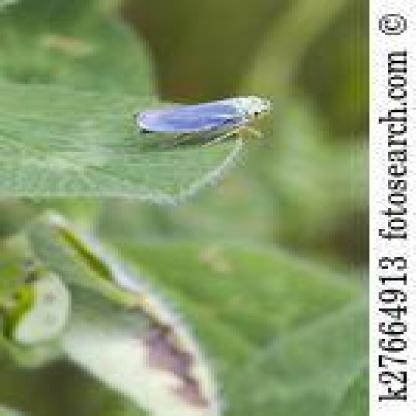Green-Leafhopper: (132, 87, 272, 148)
